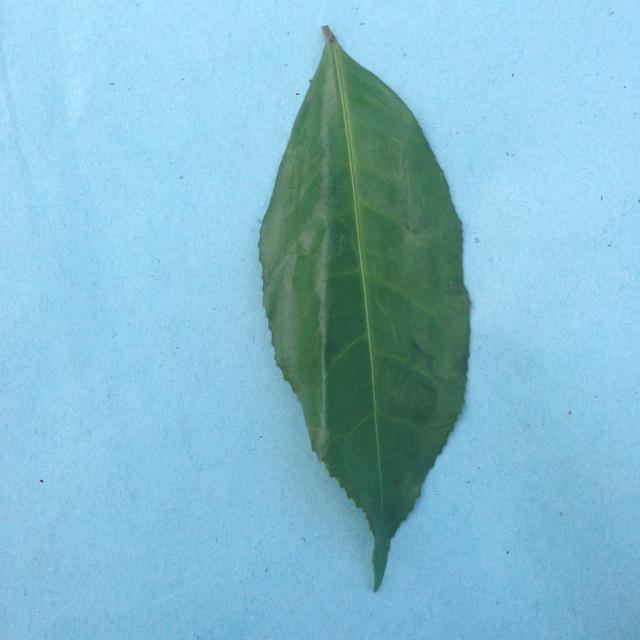Healthy: (209, 13, 496, 603)
